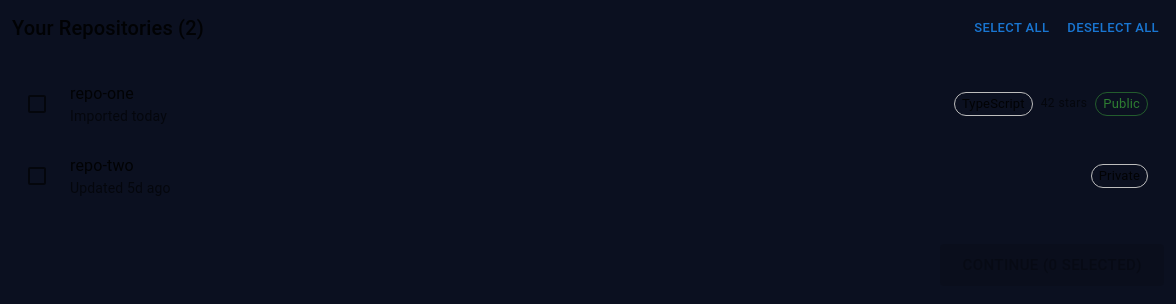
Test: RepoSelectionStep › Select All selects all repos
Expected: the text "repo-one" is shown, [70, 84, 134, 103]
Click the button "Select All": (1012, 28) [969, 13, 1054, 43]
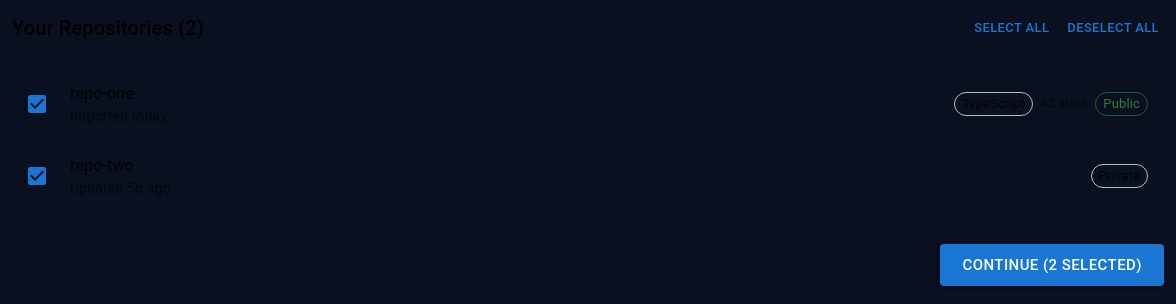
Now the button "Continue (2 selected)" is enabled, box [940, 244, 1164, 286]
